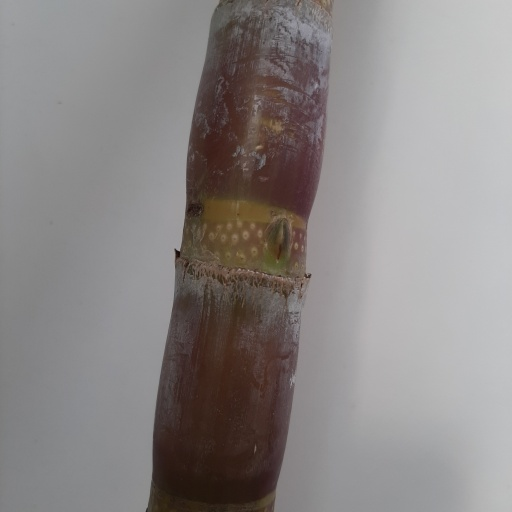Bud: (265, 213, 293, 265)
